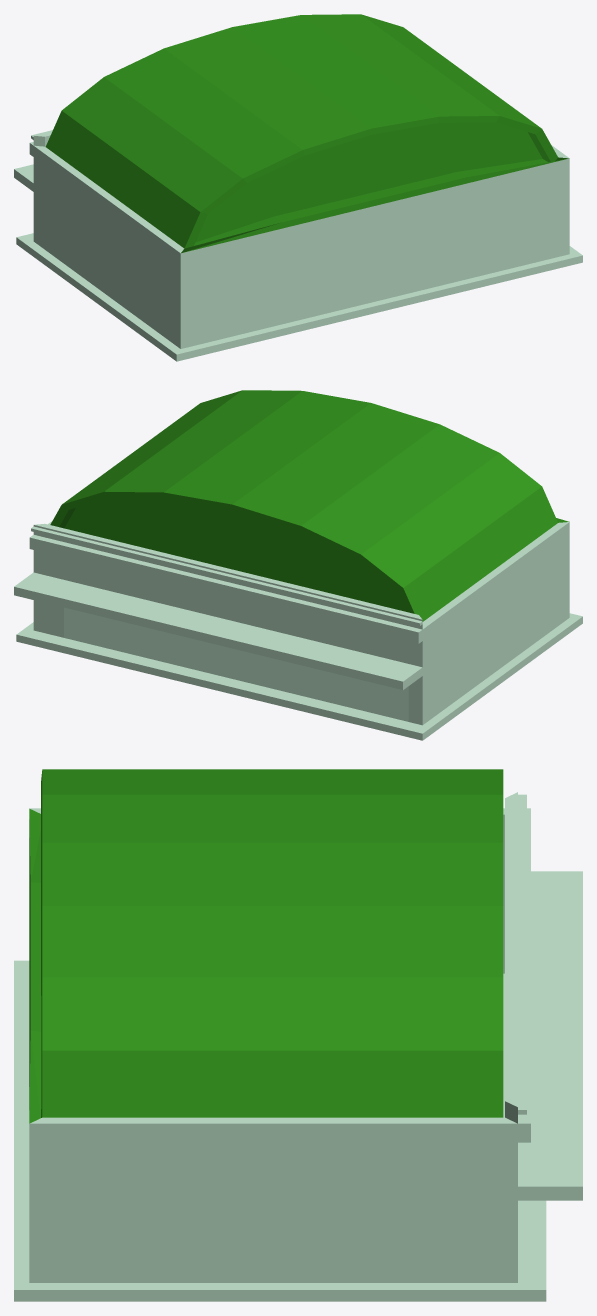
The model's file is GrocerySlightChange.fbx.
The picture shows the model from 3 angles, top to bottom: view 1: azimuth 30°, elevation 25°; view 2: azimuth 150°, elevation 25°; view 3: azimuth 270°, elevation 25°; orthographic projection. The views are drawn at different scales.
Visible parts, largest first — view 1: Plane; view 2: Plane; view 3: Plane.
Boxes of the visible parts, <box> form: Plane: <box>14,14,582,361</box>; Plane: <box>14,390,582,740</box>; Plane: <box>14,769,582,1301</box>.
Bounding box in the file's own units: 1200 × 500 × 876.
